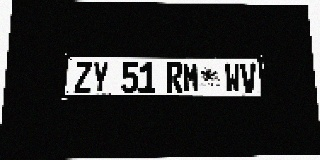1: (139, 62, 155, 93)
5: (121, 62, 138, 93)
M: (183, 62, 199, 93)
R: (166, 62, 183, 93)
V: (240, 63, 257, 93)
W: (224, 63, 241, 93)
Y: (91, 62, 109, 93)
Z: (74, 62, 92, 93)
